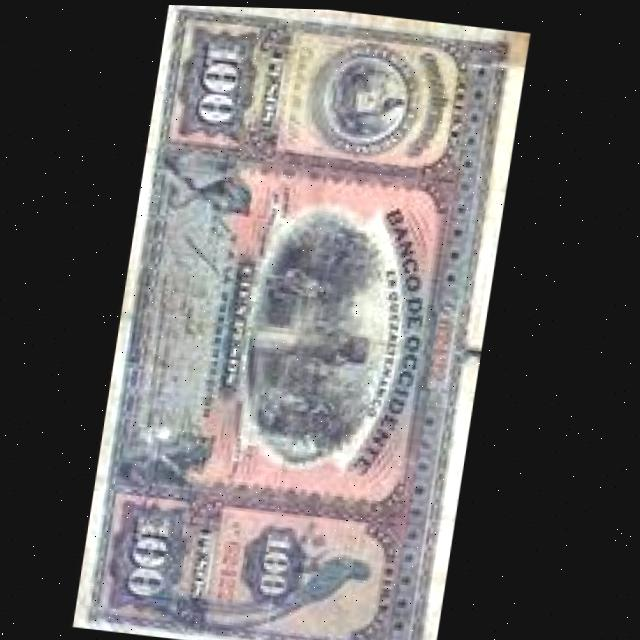banknote: (79, 3, 533, 640)
